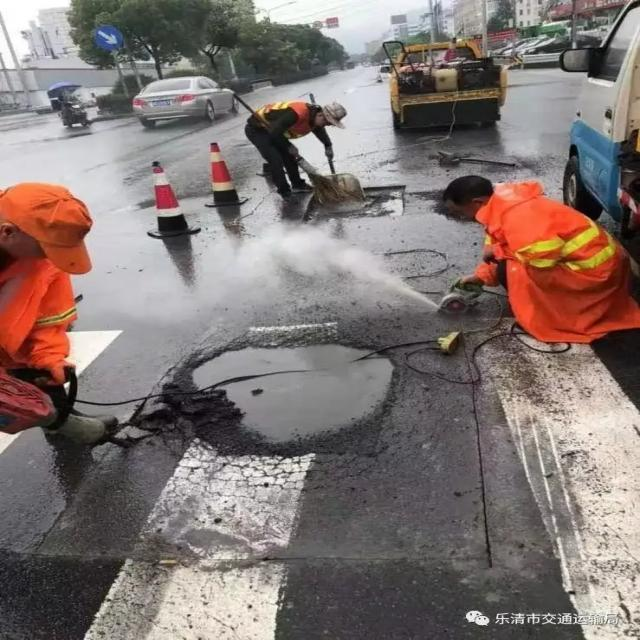pothole: (164, 341, 402, 448), (300, 189, 423, 229)
